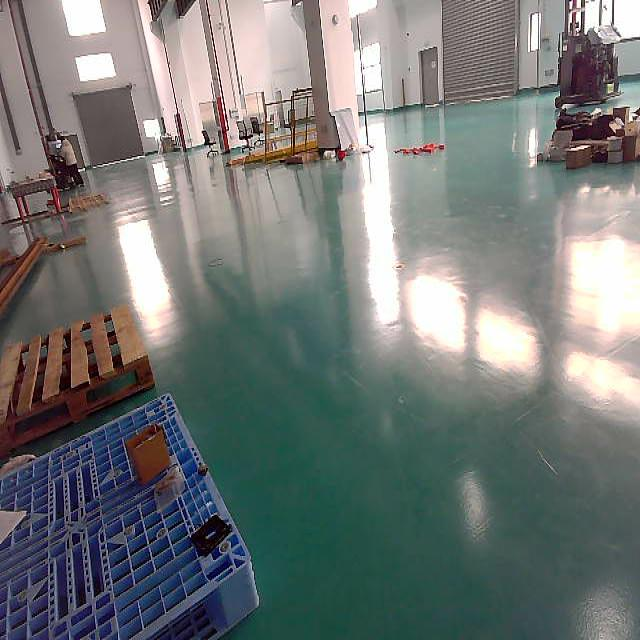euro: (0, 302, 156, 463)
